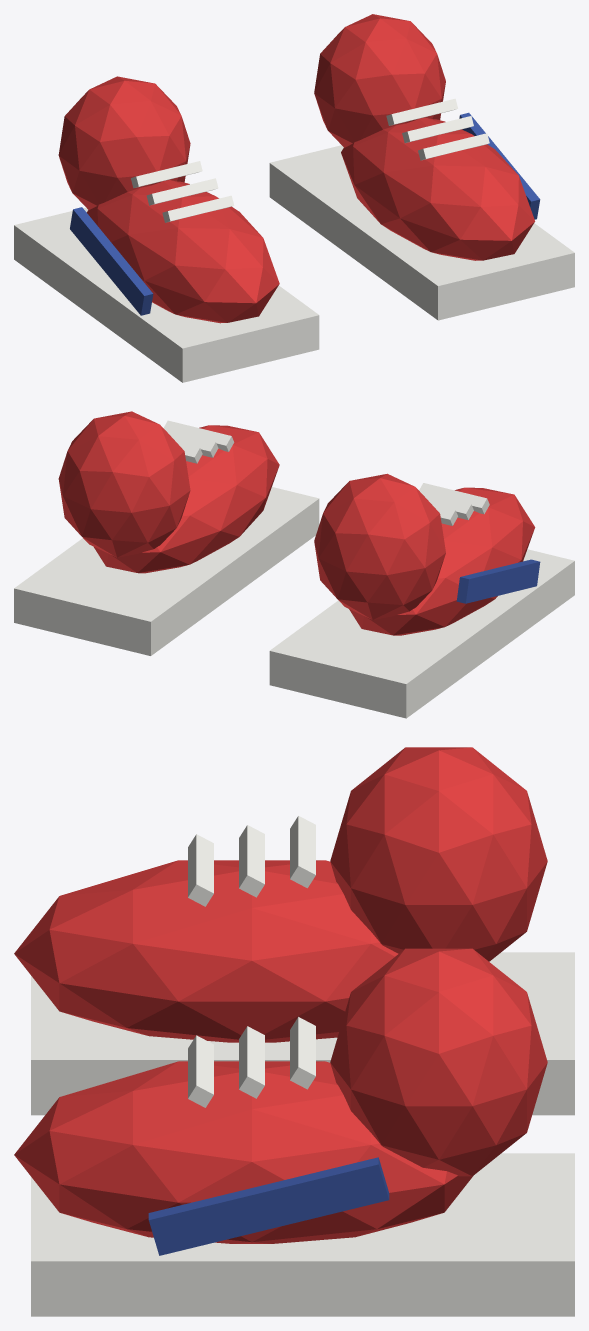
File: Sneakers.fbx
3 renders of one model, top to bottom at view 1: azimuth 30°, elevation 25°; view 2: azimuth 150°, elevation 25°; view 3: azimuth 270°, elevation 25°, orthographic. The views are drawn at different scales.
Parts seen in each view (by area): view 1: Upper, Sole, Laces, Swoosh; view 2: Upper, Sole, Laces, Swoosh; view 3: Upper, Sole, Swoosh, Laces.
Part boxes in pixels (x1,y1,x2,y2): Upper: (58,14,535,323); Sole: (14,145,574,382); Laces: (131,98,489,222); Swoosh: (70,112,540,315); Upper: (58,411,535,635); Sole: (14,487,574,718); Laces: (163,420,489,525); Swoosh: (456,559,540,603); Upper: (14,747,547,1243); Sole: (31,952,574,1316); Swoosh: (148,1157,389,1255); Laces: (188,815,315,1107).
Size of the model in its own units: 2.17 by 1.01 by 1.65.
